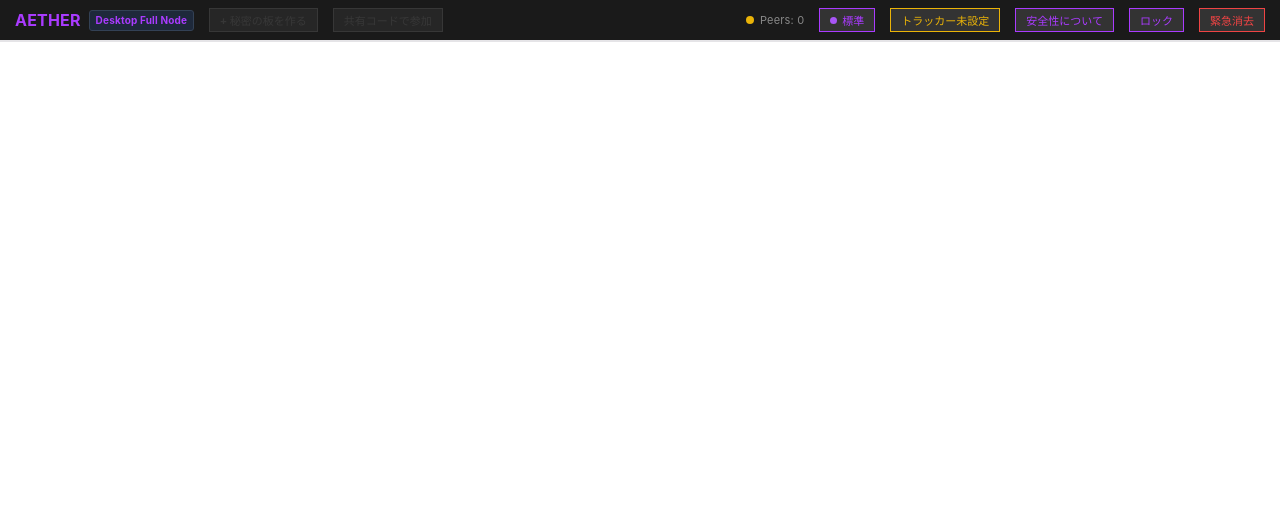
Scenario: AppHeader のセキュリティレベル表示とトグル › ヘッダーのレベルボタンをクリックすると設定モーダルが開く
Expected: the text "オニオン回路のトラフィック混合遅延" is not shown
# ボタンをクリックしてモーダルを開く
Click the button "標準" at x=847, y=20, box x1=819 y1=8 x2=875 y2=32
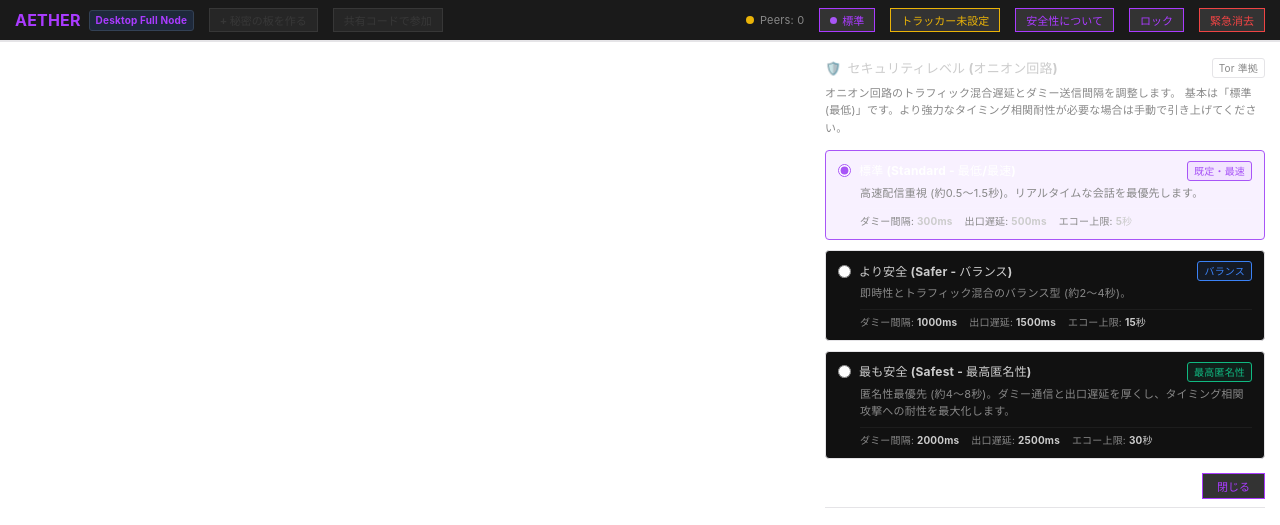
Expected: the text "オニオン回路のトラフィック混合遅延" is shown, x1=825 y1=86 x2=1257 y2=135
# 閉じるボタンで閉じる
Click the button "閉じる" at x=1234, y=486, box x1=1202 y1=473 x2=1265 y2=499
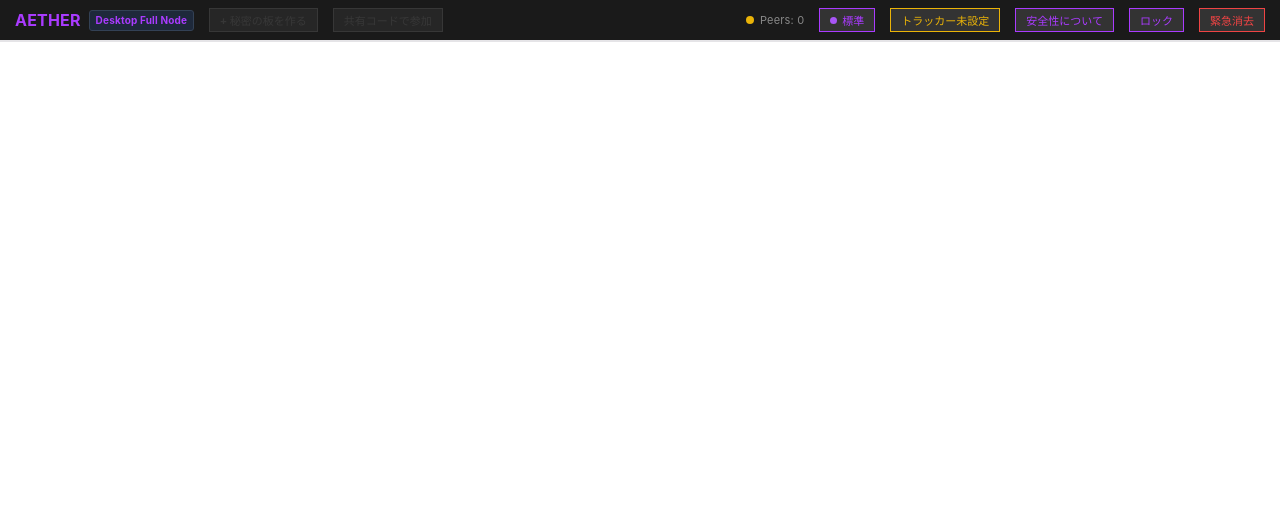
Expected: the text "オニオン回路のトラフィック混合遅延" is gone
